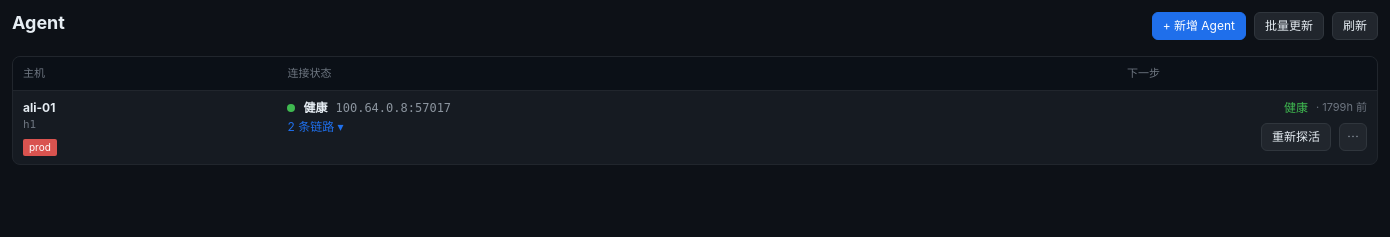
Test: AgentManagerTab › shows the current route as reachable when the agent is healthy
Click the button with test id "agent-route-toggle-h1" at (316, 126), box [288,120,344,132]
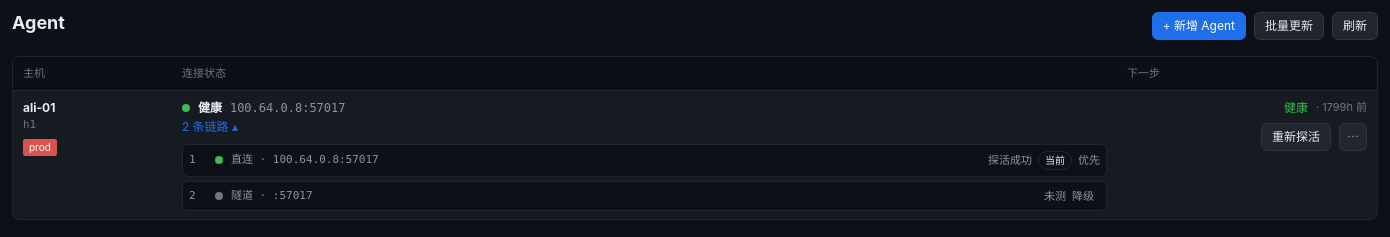
Expected: the element with test id "agent-route-row-h1-0" does not show "未测"
Now the element with test id "agent-route-row-h1-0" shows "探活成功", box [988,153,1032,167]
Now the element with test id "agent-route-row-h1-0" shows "当前", box [1045,154,1065,166]
